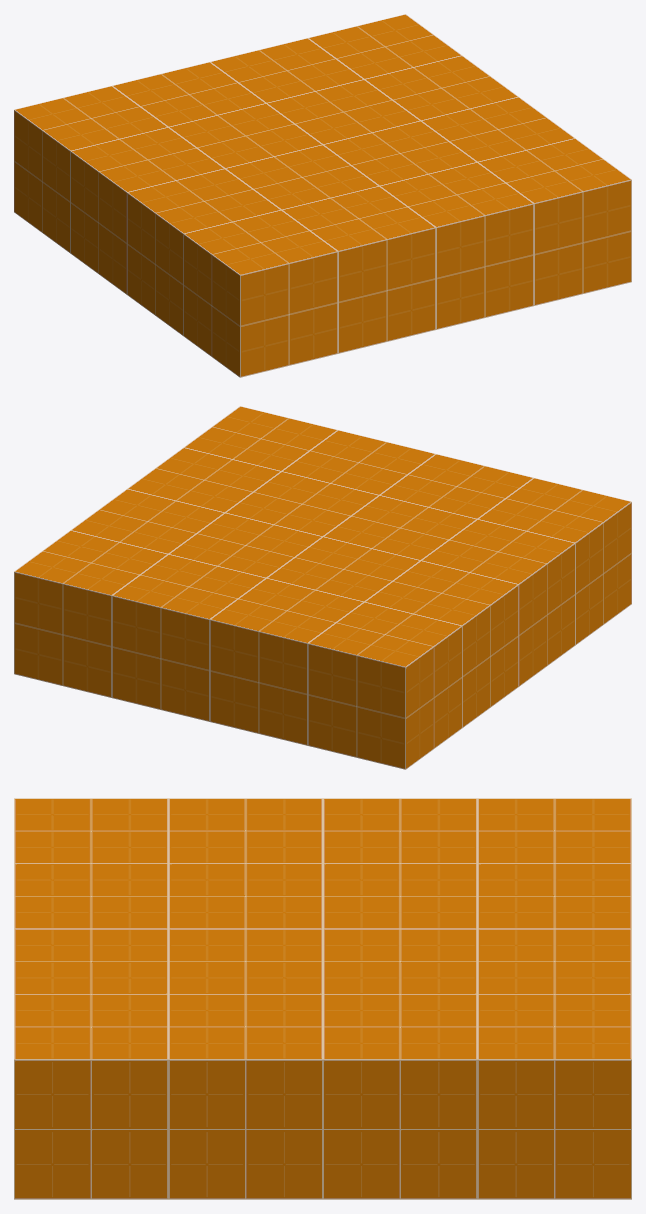
The model's file is Block_4x4x1.obj.
3 renders of one model, top to bottom at view 1: azimuth 30°, elevation 25°; view 2: azimuth 150°, elevation 25°; view 3: azimuth 270°, elevation 25°, orthographic. The views are drawn at different scales.
Visible parts, largest first — view 1: Block_4x4x1_Cube.196; view 2: Block_4x4x1_Cube.196; view 3: Block_4x4x1_Cube.196.
Boxes of the visible parts, x1,y1,x2,y2 form: Block_4x4x1_Cube.196: (14,14,631,377); Block_4x4x1_Cube.196: (14,406,631,769); Block_4x4x1_Cube.196: (14,798,631,1199).
Bounding box in the file's own units: 4 × 1 × 4.
1 material, 1 textured.
